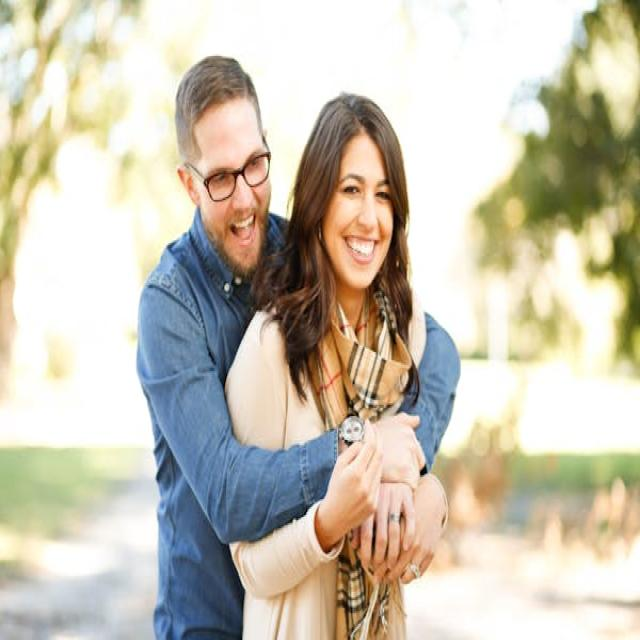Real human 2: (128, 43, 478, 640)
